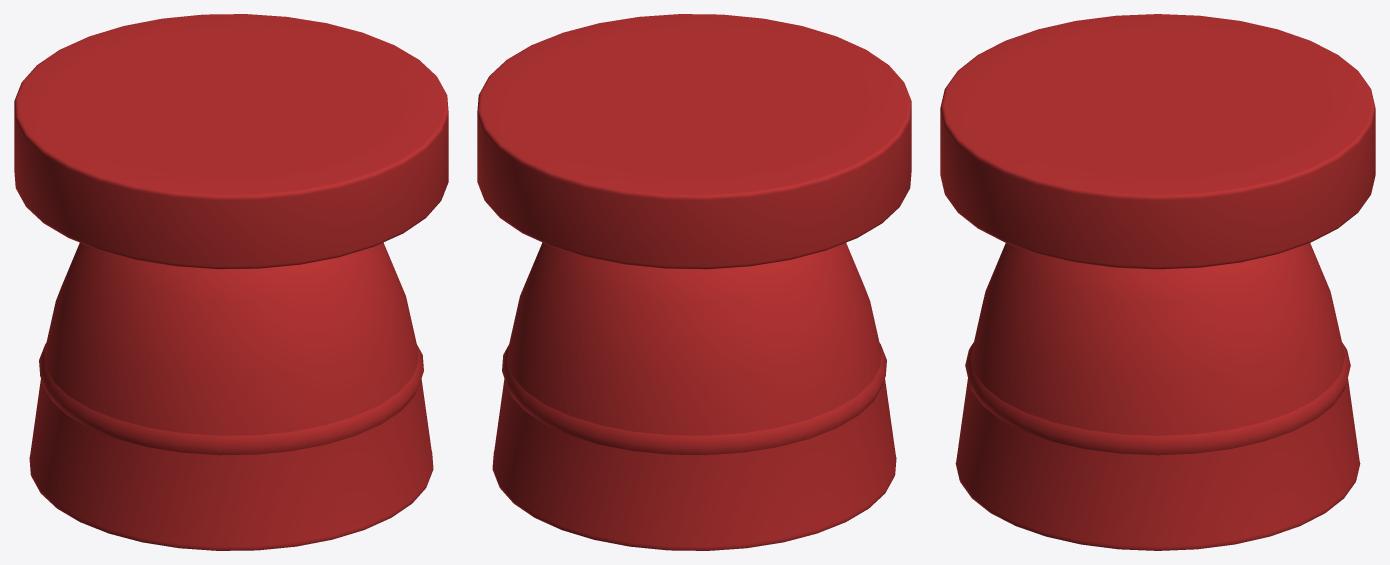
File: SM_Lamps_Bulbs.fbx
3 renders of one model, left to right at view 1: azimuth 30°, elevation 25°; view 2: azimuth 150°, elevation 25°; view 3: azimuth 270°, elevation 25°, orthographic.
Visible parts, largest first — view 1: SM_Lamps_Bulbs; view 2: SM_Lamps_Bulbs; view 3: SM_Lamps_Bulbs.
Boxes of the visible parts, left/top/right/bottom form: SM_Lamps_Bulbs: left=14, top=14, right=448, bottom=550; SM_Lamps_Bulbs: left=477, top=14, right=911, bottom=550; SM_Lamps_Bulbs: left=940, top=14, right=1375, bottom=550.
Bounding box in the file's own units: 11.76 × 10.76 × 11.76.
